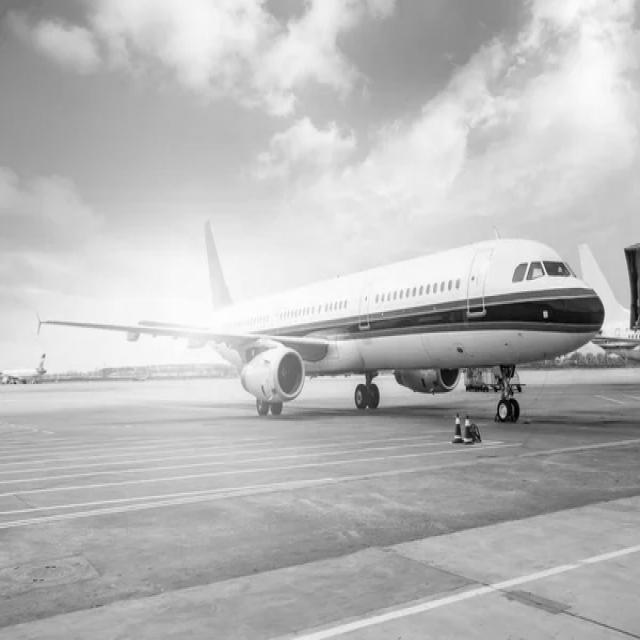Aircraft: (33, 232, 611, 412)
